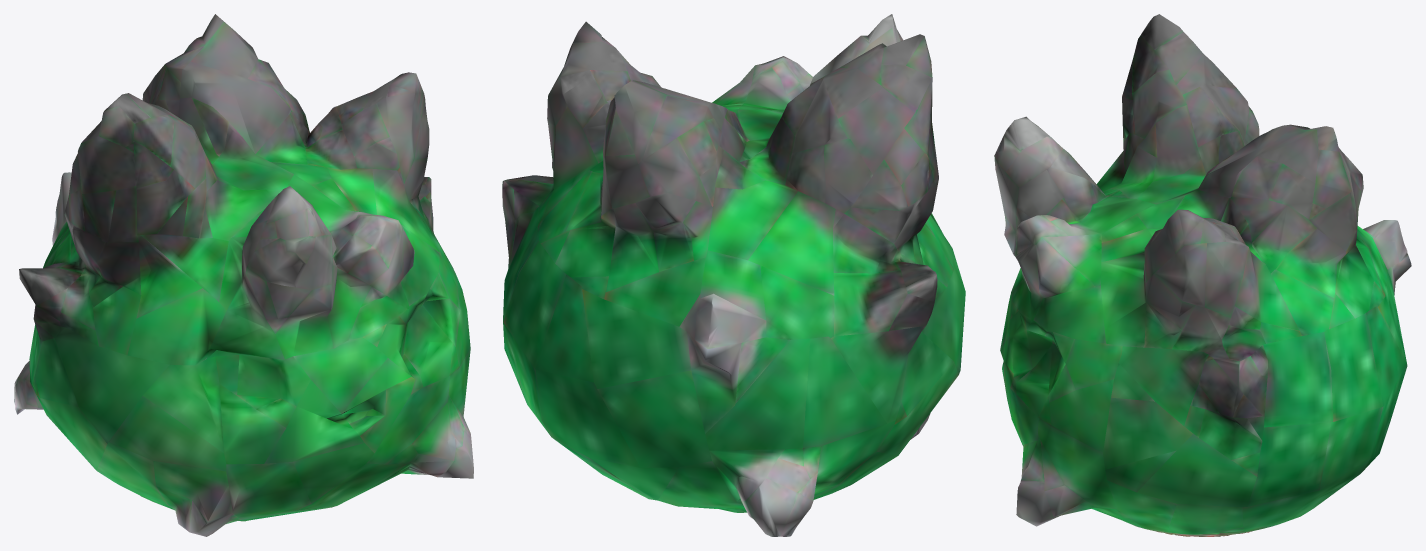
The model's file is Meshy_AI_Rocky_Slime_0709233151_texture_low.glb.
3 renders of one model, left to right at view 1: azimuth 30°, elevation 25°; view 2: azimuth 150°, elevation 25°; view 3: azimuth 270°, elevation 25°, orthographic. The views are drawn at different scales.
Size of the model in its own units: 1.8 by 1.89 by 1.67.
1 material, 1 textured.
